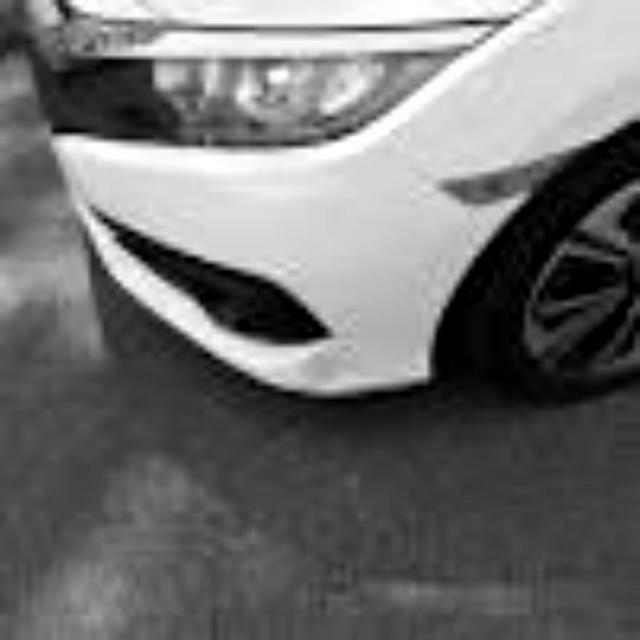front-bumper-dent: (45, 141, 473, 416)
